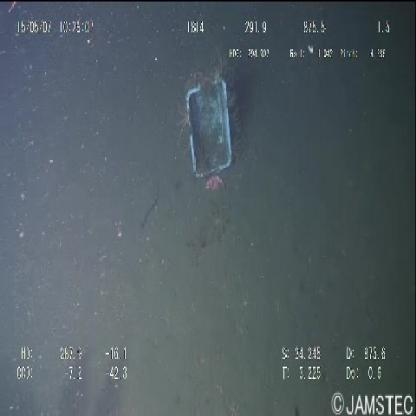Rác: (178, 66, 240, 194)
